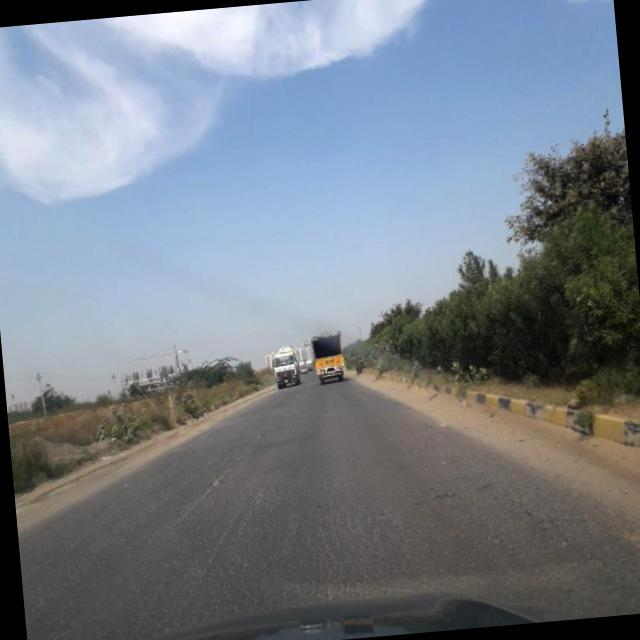crack: (14, 439, 492, 637)
